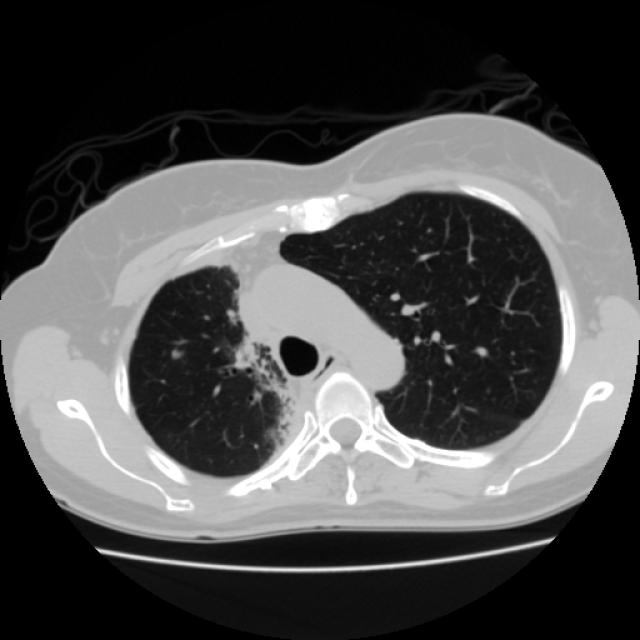nodule: (161, 339, 189, 366)
